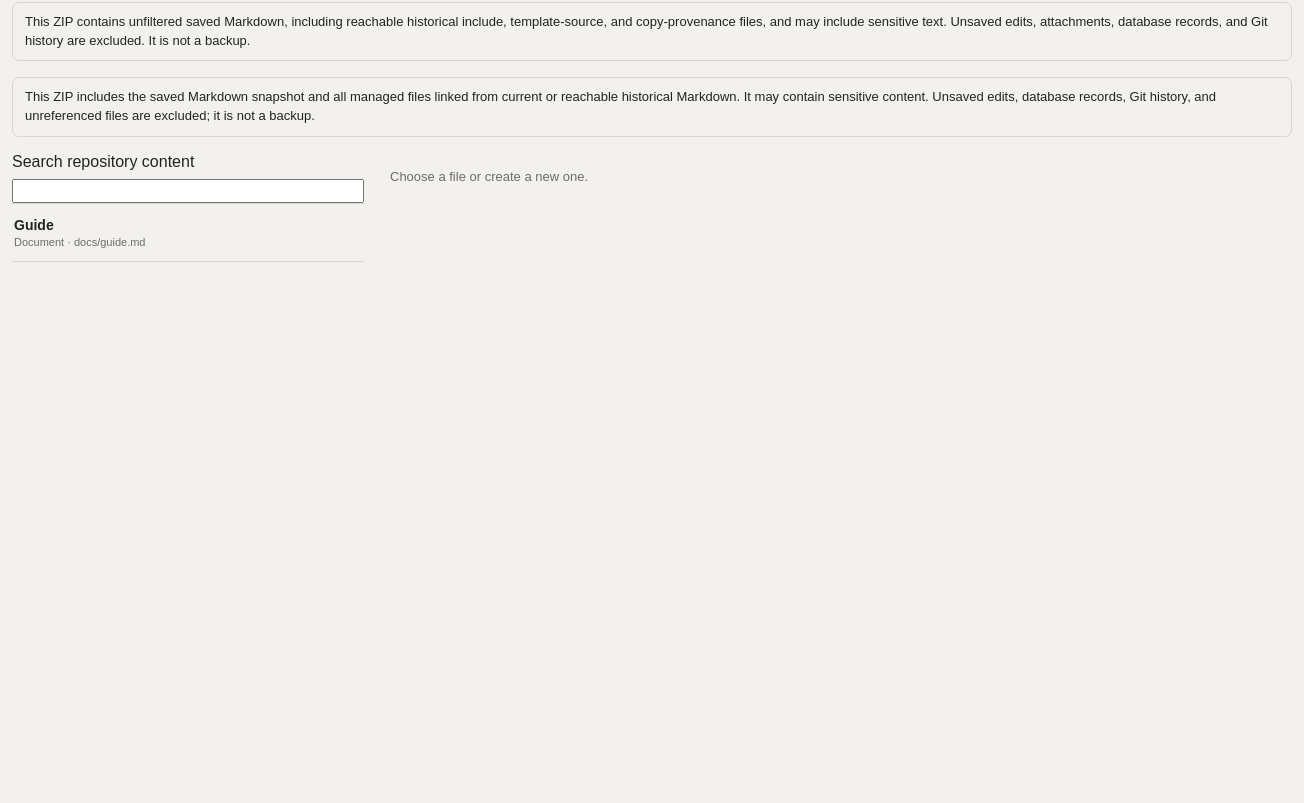
Test case: keeps publication history denial retryable and does not claim unfinalized evidence is published
Click the button "Guide Document · docs/guide.md" at {"x": 34, "y": 225}, box x1=12 y1=204 x2=364 y2=261
(page scrolled)
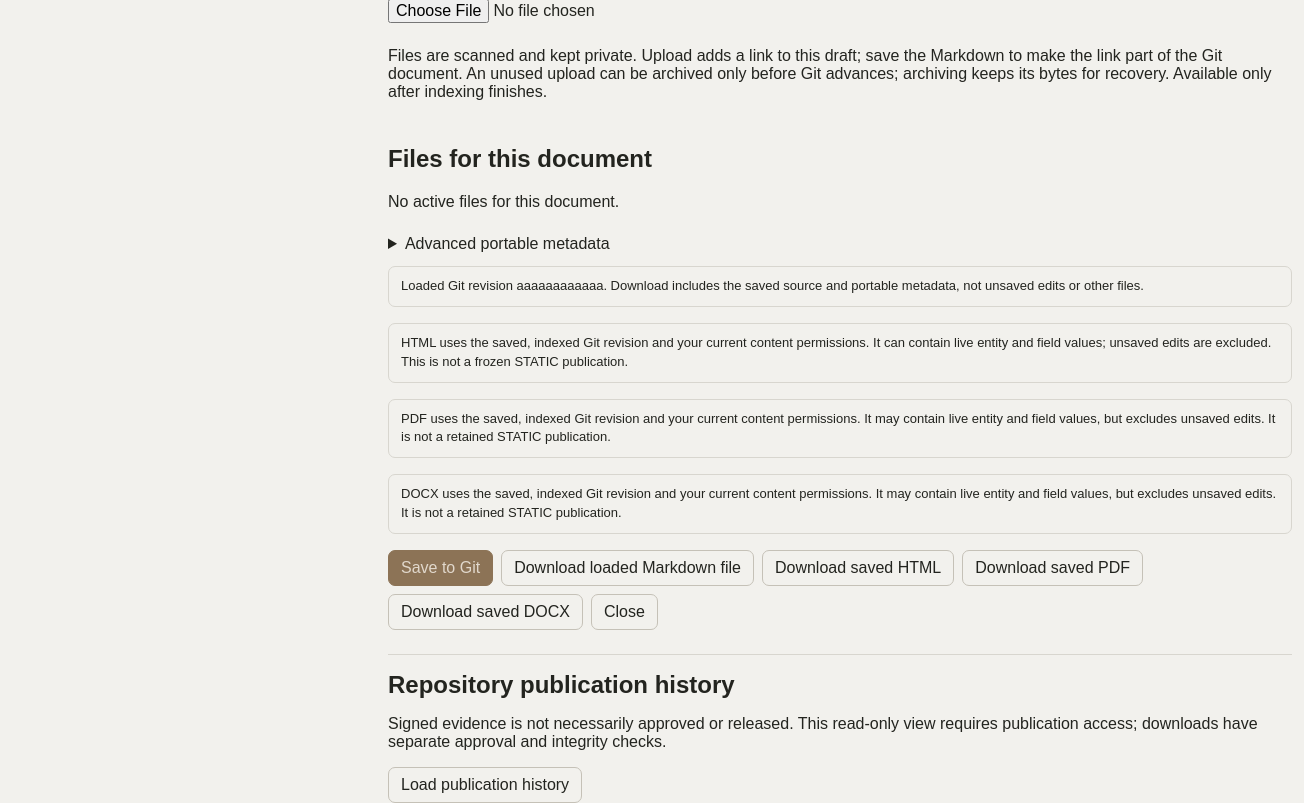
Click the button "Load publication history" at {"x": 485, "y": 785}, box x1=388 y1=767 x2=582 y2=802
(page scrolled)
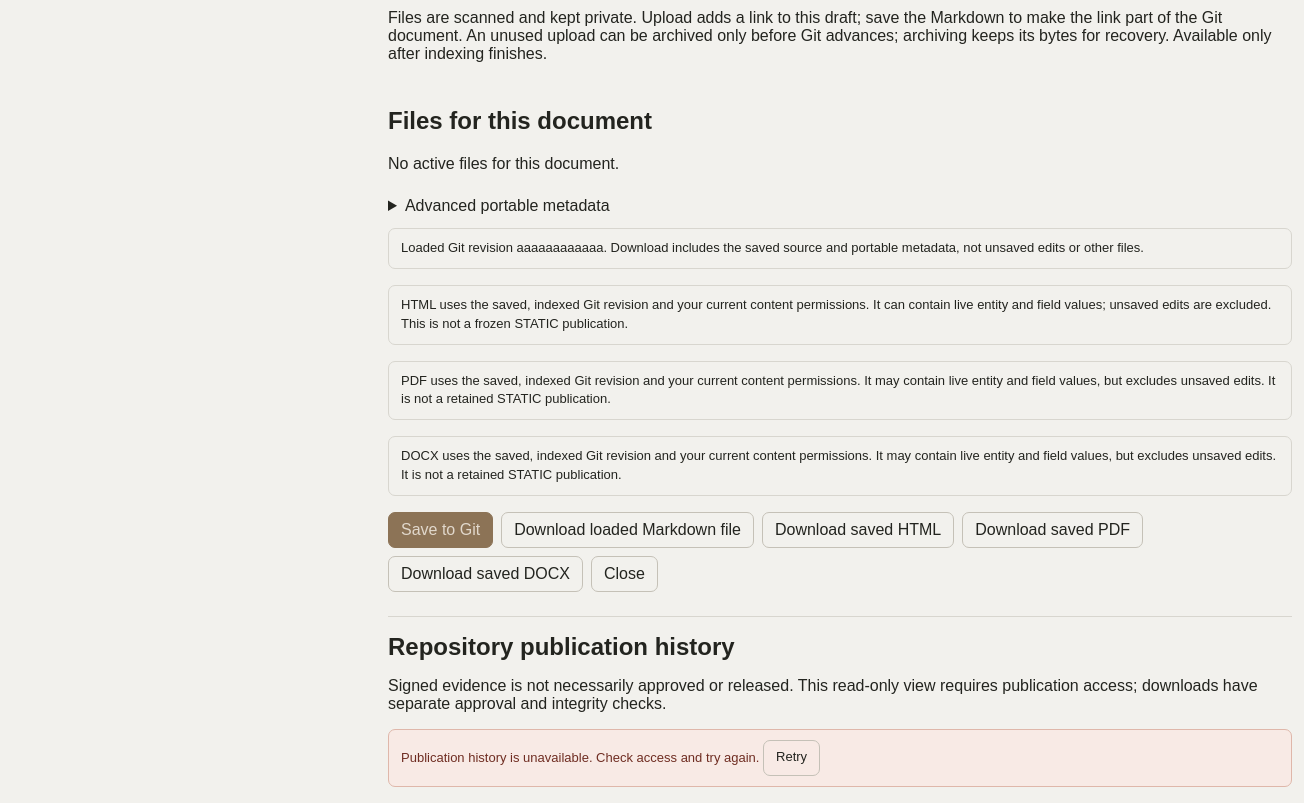
Check: the message shows "Publication history is unavailable", box x1=401 y1=750 x2=759 y2=764
Click the button "Retry" at {"x": 792, "y": 758}, box x1=763 y1=740 x2=820 y2=776
(page scrolled)
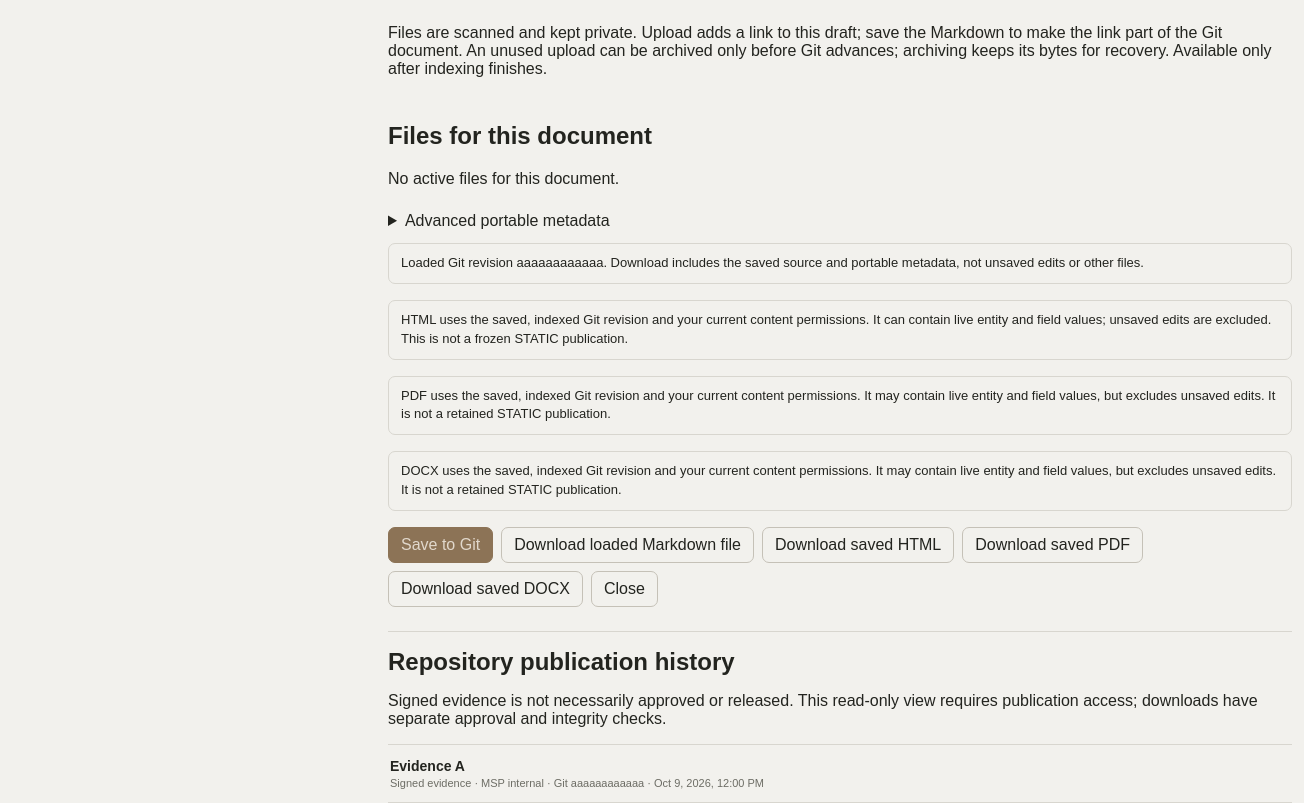
Click the button "Evidence A" at {"x": 427, "y": 766}, box x1=388 y1=745 x2=1292 y2=802
(page scrolled)
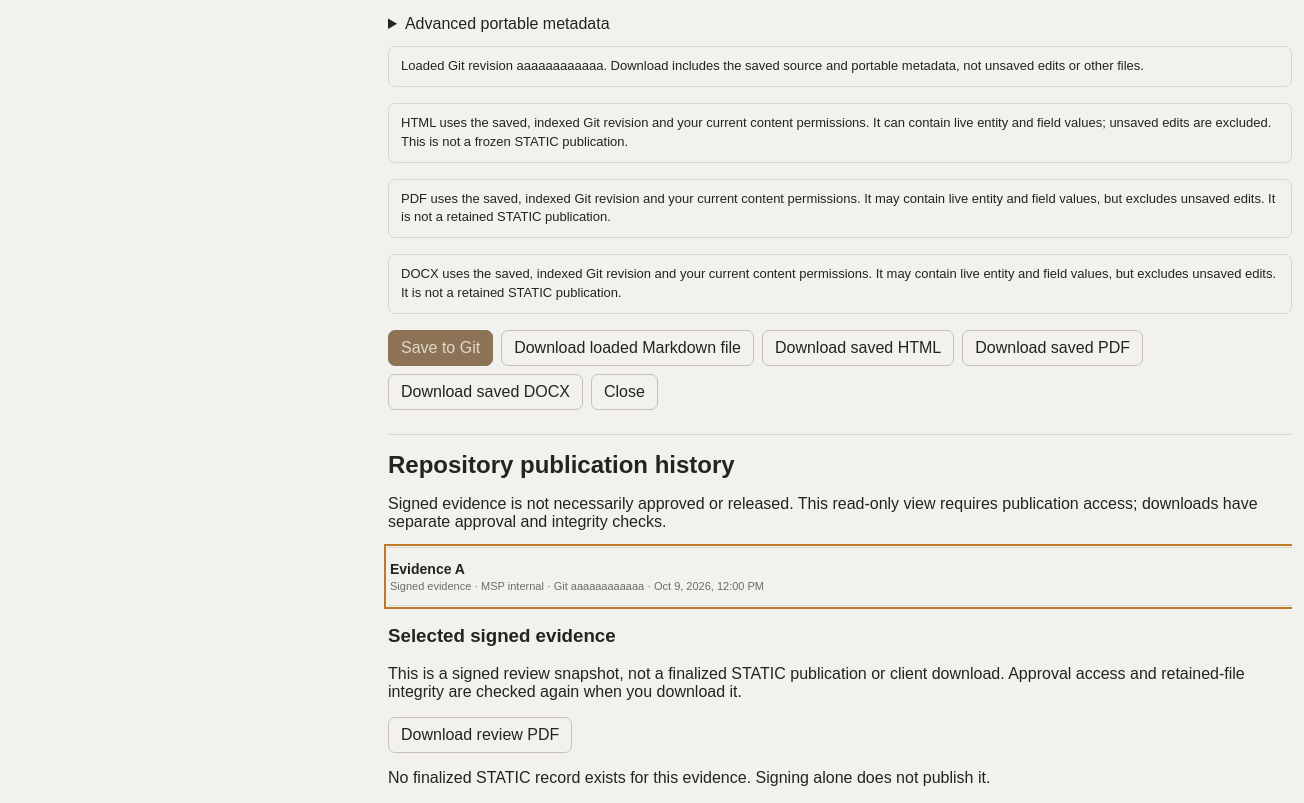
Check: the text "No finalized STATIC record exists" is shown, box x1=388 y1=769 x2=990 y2=786
